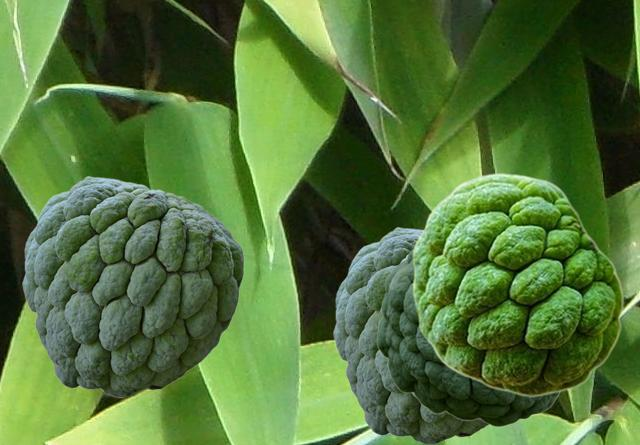atis: (22, 176, 243, 396), (412, 172, 623, 396), (333, 227, 488, 443), (376, 249, 560, 426)
